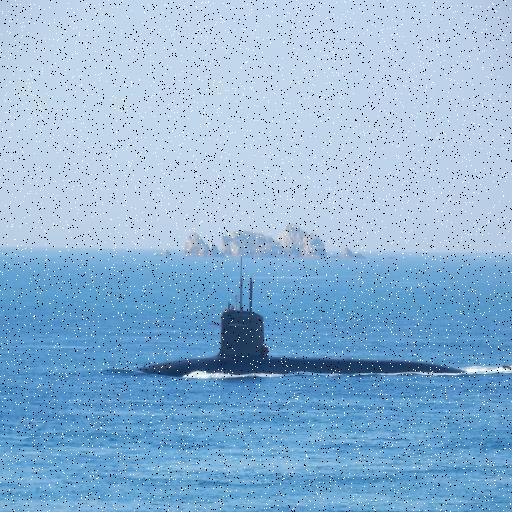submarine: (127, 289, 512, 378)
